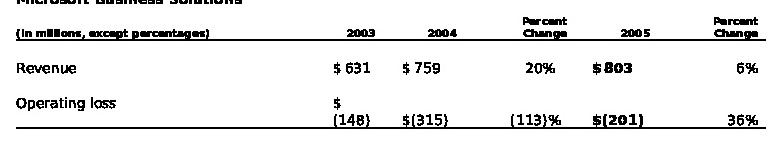table: (0, 0, 782, 142)
